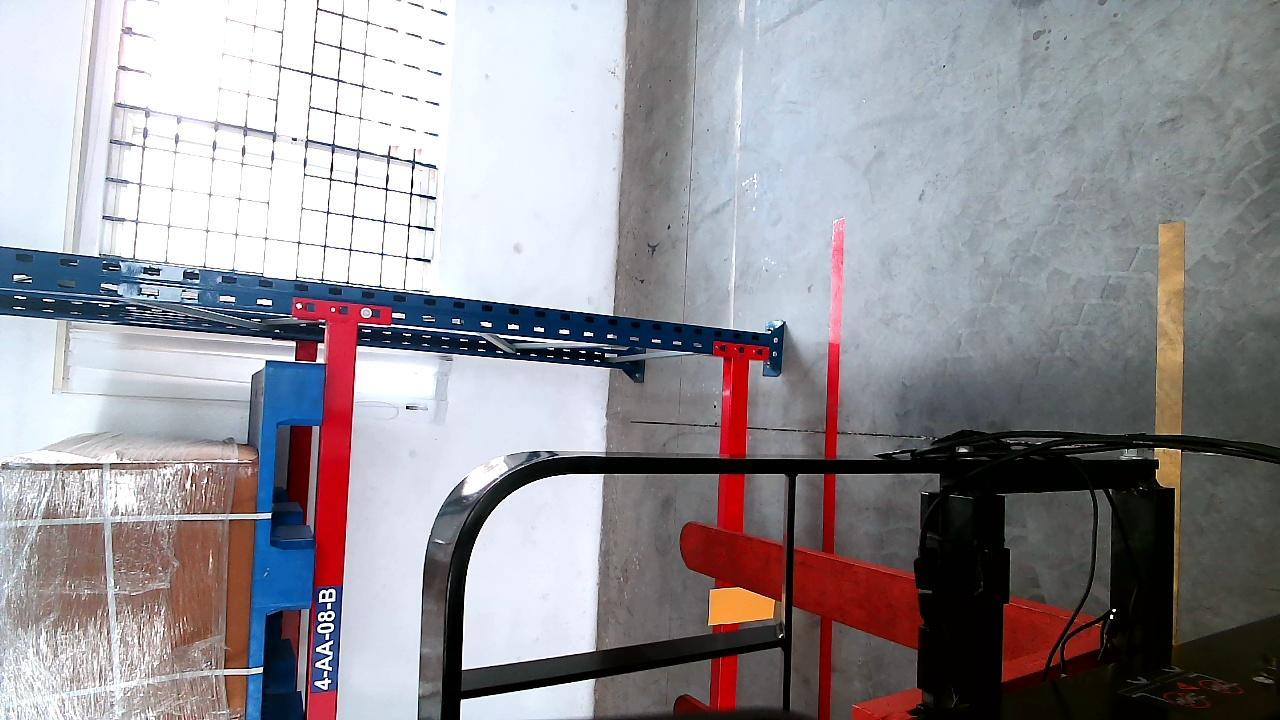red_line: (818, 217, 845, 720)
yellow_line: (1159, 208, 1189, 689)
